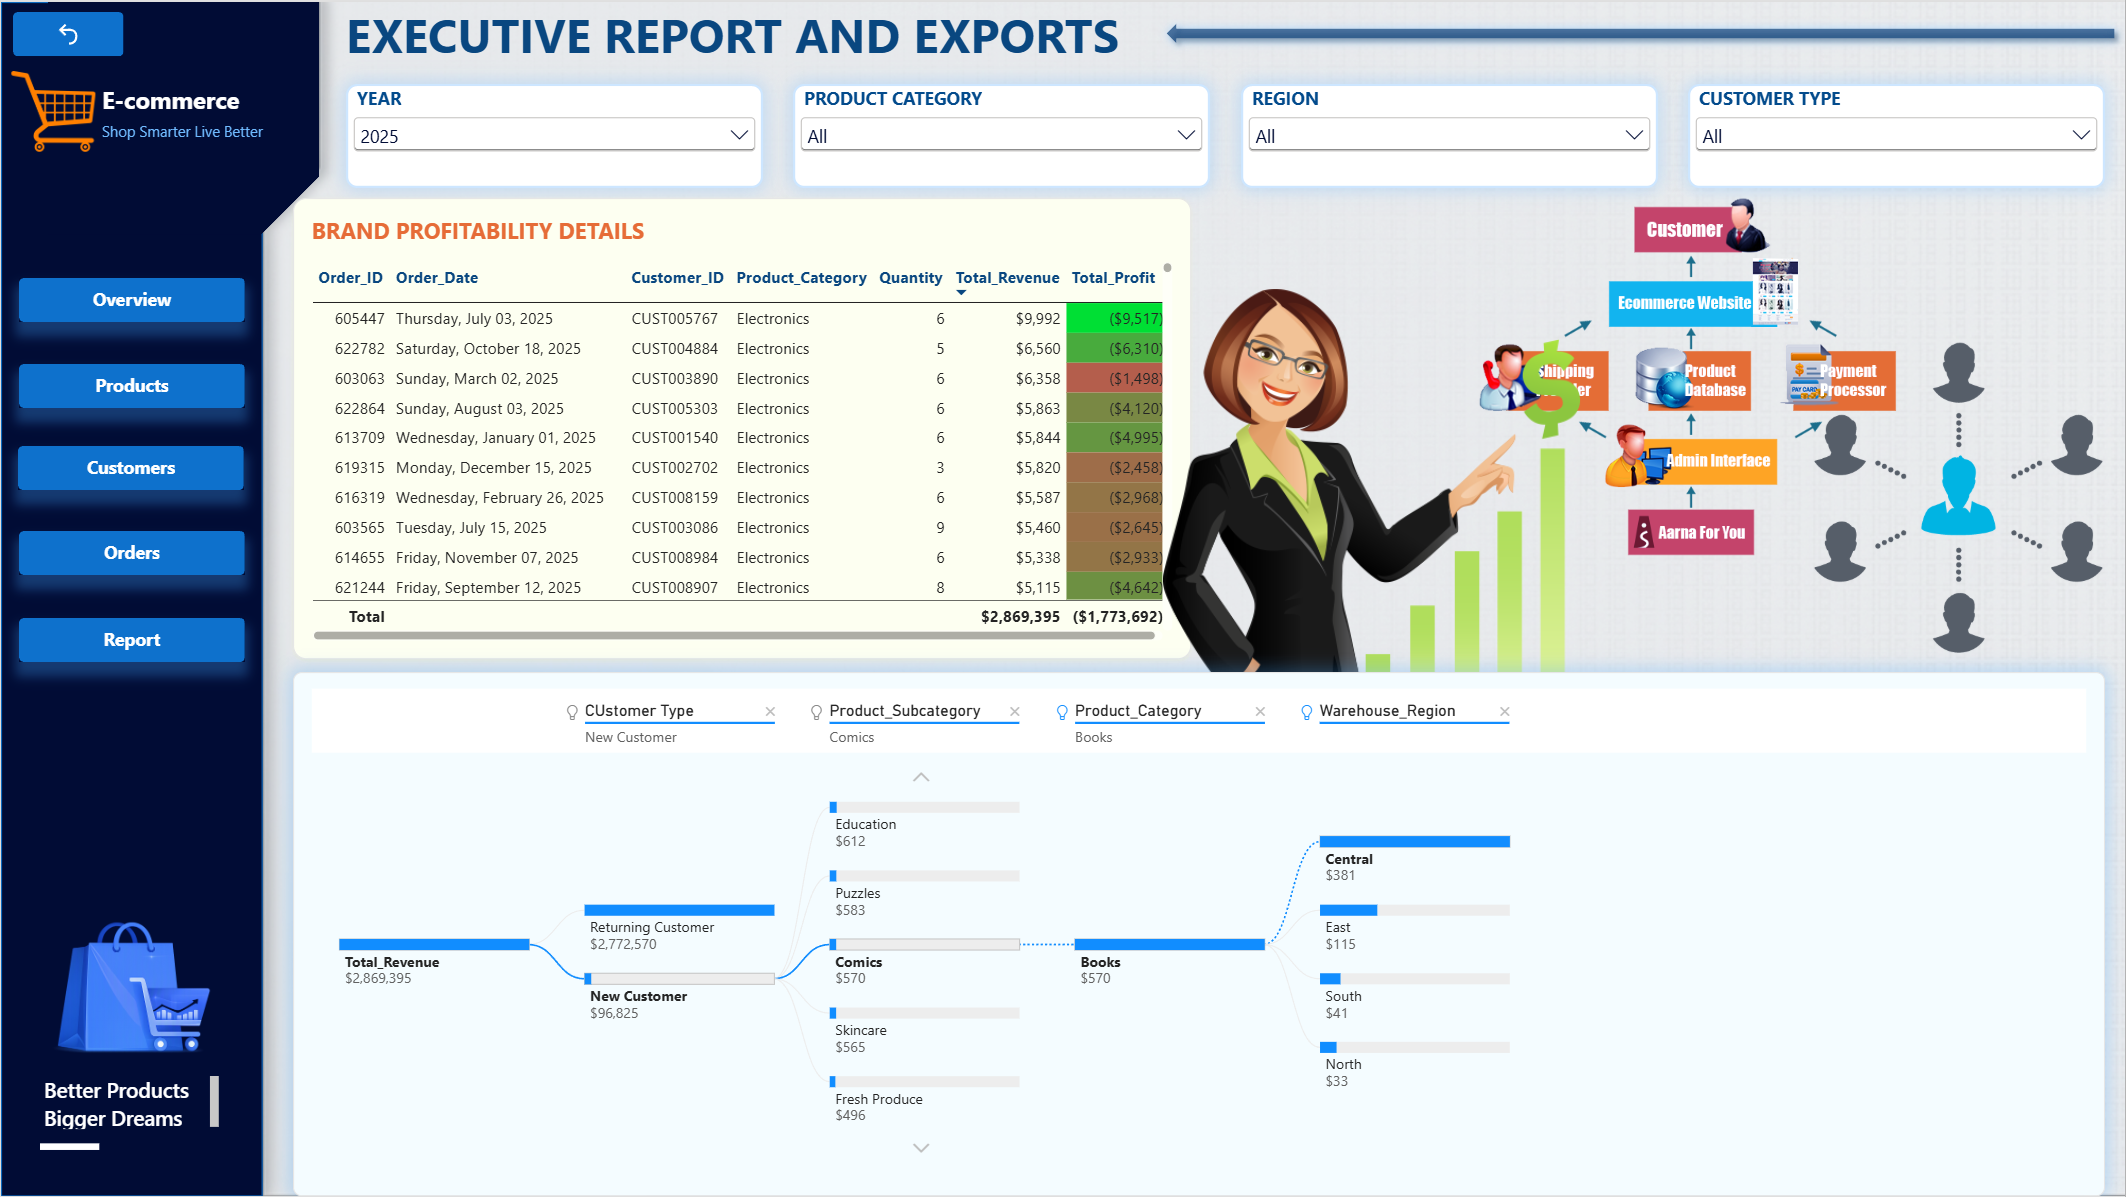

What the dashboard file says about the page in this screenshot:
{"tool":"powerbi","page":{"name":"Reports","canvas":[1920,1080],"ordinal":4},"visuals":[{"type":"textbox","box":[312,0,749,98],"z":0},{"type":"group","id":"g1","title":"Group 1","box":[0,0,287.6,1080],"z":1000},{"type":"shape","box":[0,0,236.6,1079.8],"z":2000,"group":"g1"},{"type":"image","box":[26.2,827.8,184.5,128.4],"z":2000},{"type":"shape","box":[42.2,0,245.4,210.1],"z":3000,"group":"g1"},{"type":"textbox","box":[38.6,971.2,158,48.1],"z":3000},{"type":"shape","box":[34.9,989.9,53.6,89.8],"z":4000},{"type":"image","box":[6.3,62.4,82.5,72.6],"z":5000},{"type":"textbox","box":[91.3,74.1,145.5,31.6],"z":6000},{"type":"textbox","box":[91.2,106.2,158.2,47.9],"z":8000},{"type":"actionButton","box":[16.3,249.5,204.3,39.8],"z":9000},{"type":"actionButton","box":[16.3,327.2,204.3,39.8],"z":10000},{"type":"actionButton","box":[15.4,401.4,204.3,39.8],"z":11000},{"type":"actionButton","box":[16.3,556.8,204.3,39.8],"z":12000},{"type":"actionButton","box":[16.3,478.2,204.3,39.8],"z":13000},{"type":"slicer","fields":{"Values":["ecommerce_orders_dataset (1).Year"]},"box":[311.9,74.1,376.7,94],"z":14000},{"type":"slicer","fields":{"Values":["ecommerce_orders_dataset (1).Product_Category"]},"box":[716.3,74.1,376.7,94],"z":15000},{"type":"slicer","fields":{"Values":["ecommerce_orders_dataset (1).Warehouse_Region"]},"box":[1120.8,74.1,376.7,94],"z":16000},{"type":"slicer","fields":{"Values":["ecommerce_orders_dataset (1).CUstomer Type"]},"box":[1525.3,74.1,376.7,94],"z":17000},{"type":"tableEx","title":"BRAND PROFITABILITY DETAILS","fields":{"Values":["ecommerce_orders_dataset (1).Order_ID","ecommerce_orders_dataset (1).Order_Date","ecommerce_orders_dataset (1).Customer_ID","ecommerce_orders_dataset (1).Product_Category","ecommerce_orders_dataset (1).Quantity","ecommerce_orders_dataset (1).Total_Revenue","ecommerce_orders_dataset (1).Total_Profit"]},"box":[264,177.2,811.8,416.7],"z":18000},{"type":"image","box":[1336,121.1,377,435],"z":19000},{"type":"image","box":[1050.4,230.5,377,435],"z":20000},{"type":"decompositionTreeVisual","fields":{"Analyze":["ecommerce_orders_dataset (1).Total_Revenue"],"ExplainBy":["ecommerce_orders_dataset (1).CUstomer Type","ecommerce_orders_dataset (1).Product_Subcategory","ecommerce_orders_dataset (1).Product_Category","ecommerce_orders_dataset (1).Warehouse_Region"]},"box":[264,605.6,1638,473.7],"z":21000},{"type":"image","box":[1636.2,307.3,265.8,281.1],"z":22000},{"type":"shape","box":[1044.1,9.9,875.9,37.1],"z":23000},{"type":"actionButton","box":[10.8,9,100,40],"z":23001}]}

Visuals, with their boxes on the page's 1920x1080 design canvas (x1, y1, x2, y2). These are canvas units, not pixel positions in the 2126x1197 screenshot, which may show the page scaled, cropped or inside an application window:
textbox: bbox=[312, 0, 1061, 98]
"Group 1" group: bbox=[0, 0, 288, 1080]
shape: bbox=[0, 0, 237, 1080]
image: bbox=[26, 828, 211, 956]
shape: bbox=[42, 0, 288, 210]
textbox: bbox=[39, 971, 197, 1019]
shape: bbox=[35, 990, 88, 1080]
image: bbox=[6, 62, 89, 135]
textbox: bbox=[91, 74, 237, 106]
textbox: bbox=[91, 106, 249, 154]
actionButton: bbox=[16, 250, 221, 289]
actionButton: bbox=[16, 327, 221, 367]
actionButton: bbox=[15, 401, 220, 441]
actionButton: bbox=[16, 557, 221, 597]
actionButton: bbox=[16, 478, 221, 518]
slicer - ecommerce_orders_dataset (1).Year: bbox=[312, 74, 689, 168]
slicer - ecommerce_orders_dataset (1).Product_Category: bbox=[716, 74, 1093, 168]
slicer - ecommerce_orders_dataset (1).Warehouse_Region: bbox=[1121, 74, 1498, 168]
slicer - ecommerce_orders_dataset (1).CUstomer Type: bbox=[1525, 74, 1902, 168]
"BRAND PROFITABILITY DETAILS" tableEx: bbox=[264, 177, 1076, 594]
image: bbox=[1336, 121, 1713, 556]
image: bbox=[1050, 230, 1427, 666]
decompositionTreeVisual - ecommerce_orders_dataset (1).Total_Revenue x ecommerce_orders_dataset (1).CUstomer Type: bbox=[264, 606, 1902, 1079]
image: bbox=[1636, 307, 1902, 588]
shape: bbox=[1044, 10, 1920, 47]
actionButton: bbox=[11, 9, 111, 49]
